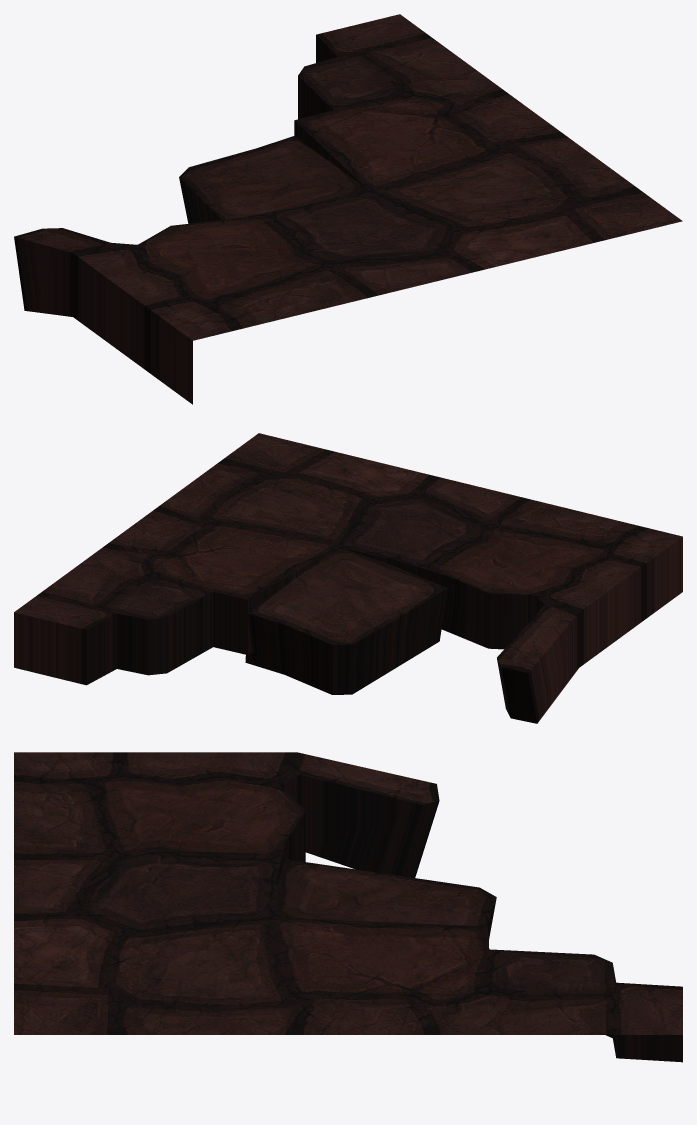
The model's file is lava_floor_brokendiagonal_04.fbx.
3 renders of one model, top to bottom at view 1: azimuth 30°, elevation 25°; view 2: azimuth 150°, elevation 25°; view 3: azimuth 270°, elevation 25°, orthographic. The views are drawn at different scales.
Parts seen in each view (by area): view 1: lava_tileset/lava_floor01_shadow; view 2: lava_tileset/lava_floor01_shadow; view 3: lava_tileset/lava_floor01_shadow.
Part boxes in pixels (left/top/right/bottom): lava_tileset/lava_floor01_shadow: left=14, top=14, right=682, bottom=404; lava_tileset/lava_floor01_shadow: left=14, top=433, right=682, bottom=723; lava_tileset/lava_floor01_shadow: left=14, top=752, right=682, bottom=1062.
Bounding box in the file's own units: 4 × 0.727 × 4.
